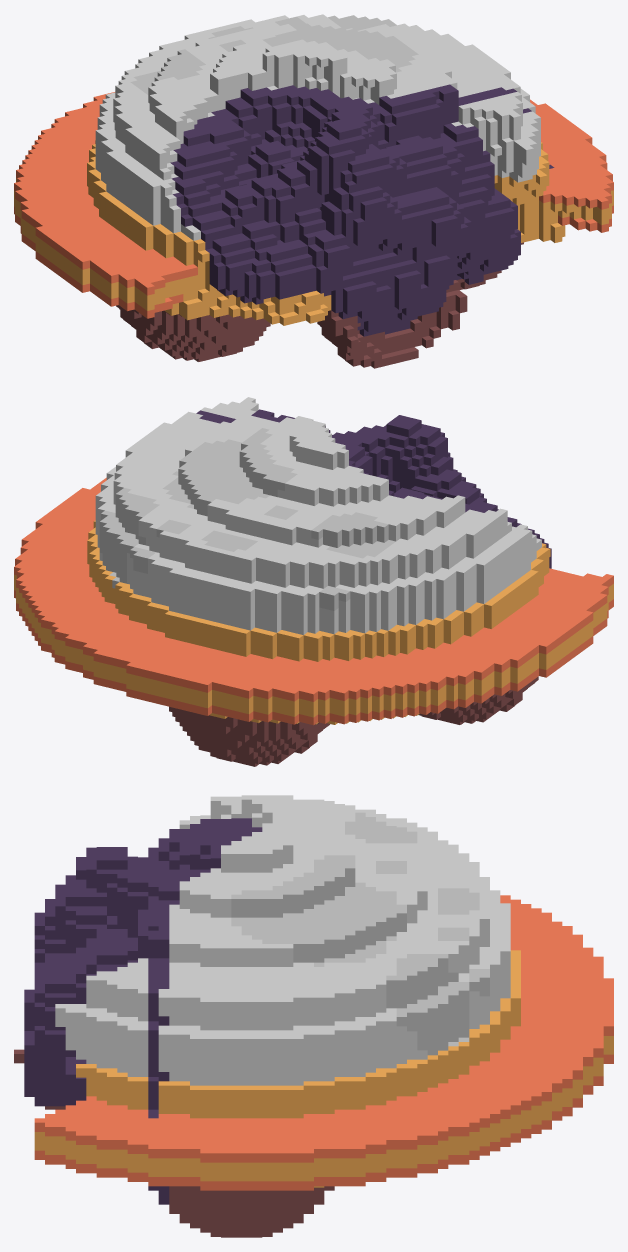
The model's file is AlienSpaceship0.obj.
3 views of the same model, one above another, from view 1: azimuth 30°, elevation 25°; view 2: azimuth 150°, elevation 25°; view 3: azimuth 270°, elevation 25° (orthographic). The views are drawn at different scales.
Bounding box in the file's own units: 6.9 × 3.3 × 5.8.
Materials: 1 (1 with a texture image).
